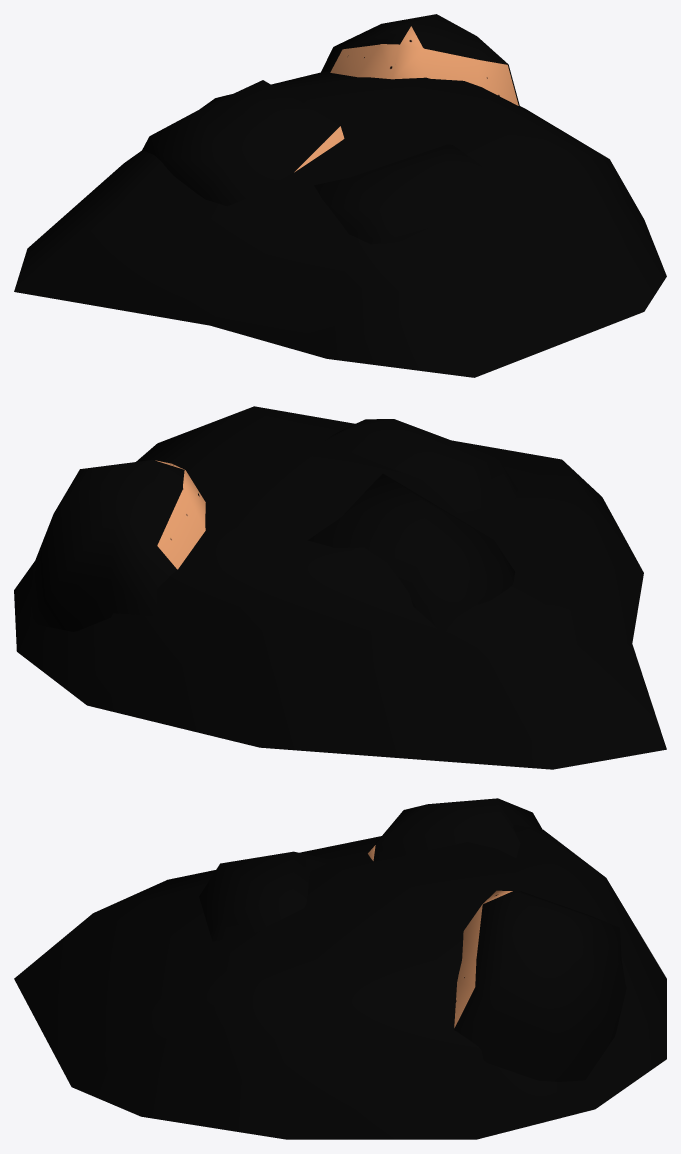
Rendered from crystal-base.glb.
The picture shows the model from 3 angles, top to bottom: view 1: azimuth 30°, elevation 25°; view 2: azimuth 150°, elevation 25°; view 3: azimuth 270°, elevation 25°; orthographic projection. The views are drawn at different scales.
Visible parts, largest first — view 1: Crystal_Base; view 2: Crystal_Base; view 3: Crystal_Base.
Part boxes in pixels (box(x1,y1,x2,y2)): Crystal_Base: box(14, 14, 666, 377); Crystal_Base: box(14, 406, 666, 769); Crystal_Base: box(14, 798, 666, 1139).
Size of the model in its own units: 5.33 by 1.43 by 4.84.
2 materials, 1 textured.
